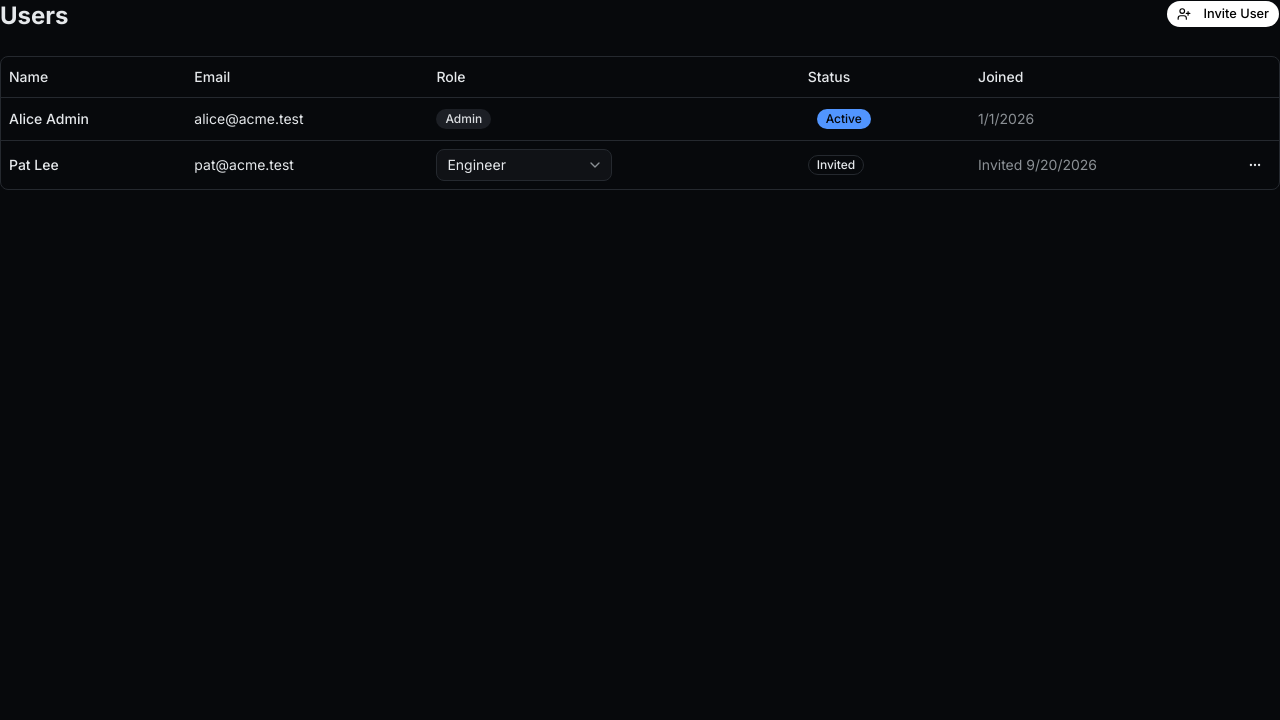
Test: a pending invitee › offers to revoke, not remove, someone who never got in
Step 1. Click the button named "open actions" → (1255, 164), box [1239,148,1271,180]
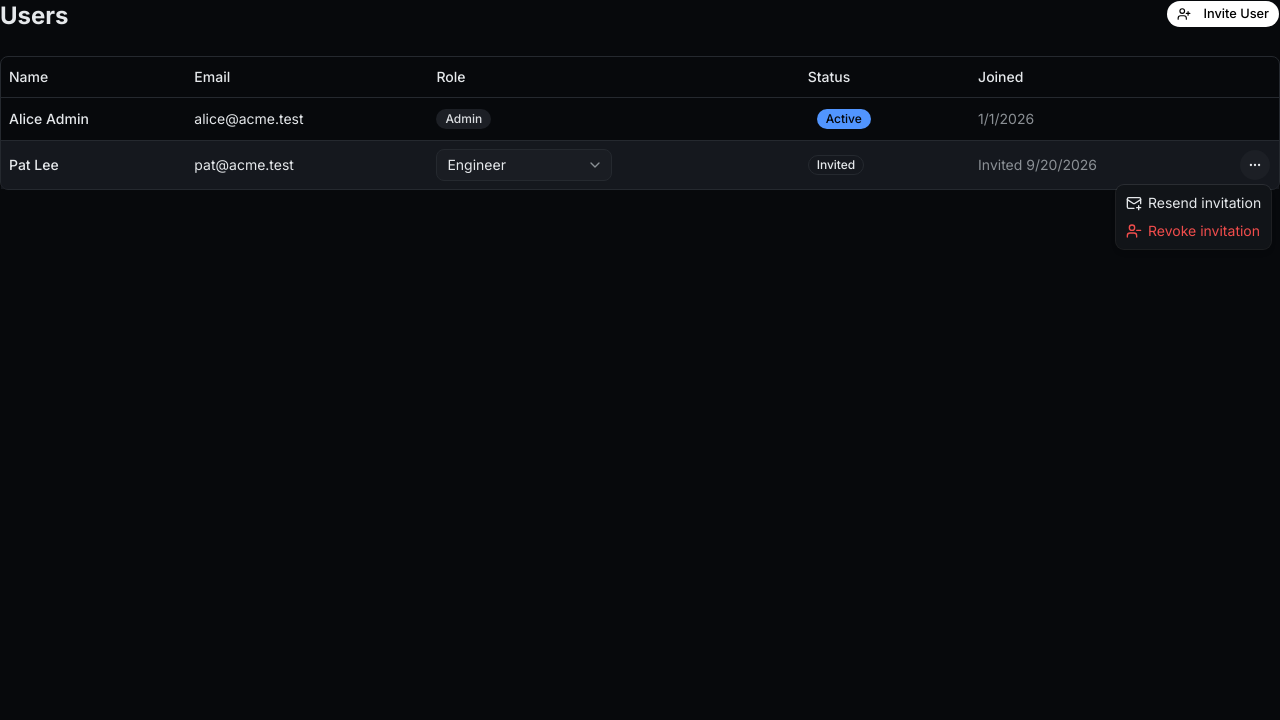
Step 2. Click the menu item "Revoke invitation" → (1194, 231), box [1120,217,1267,245]
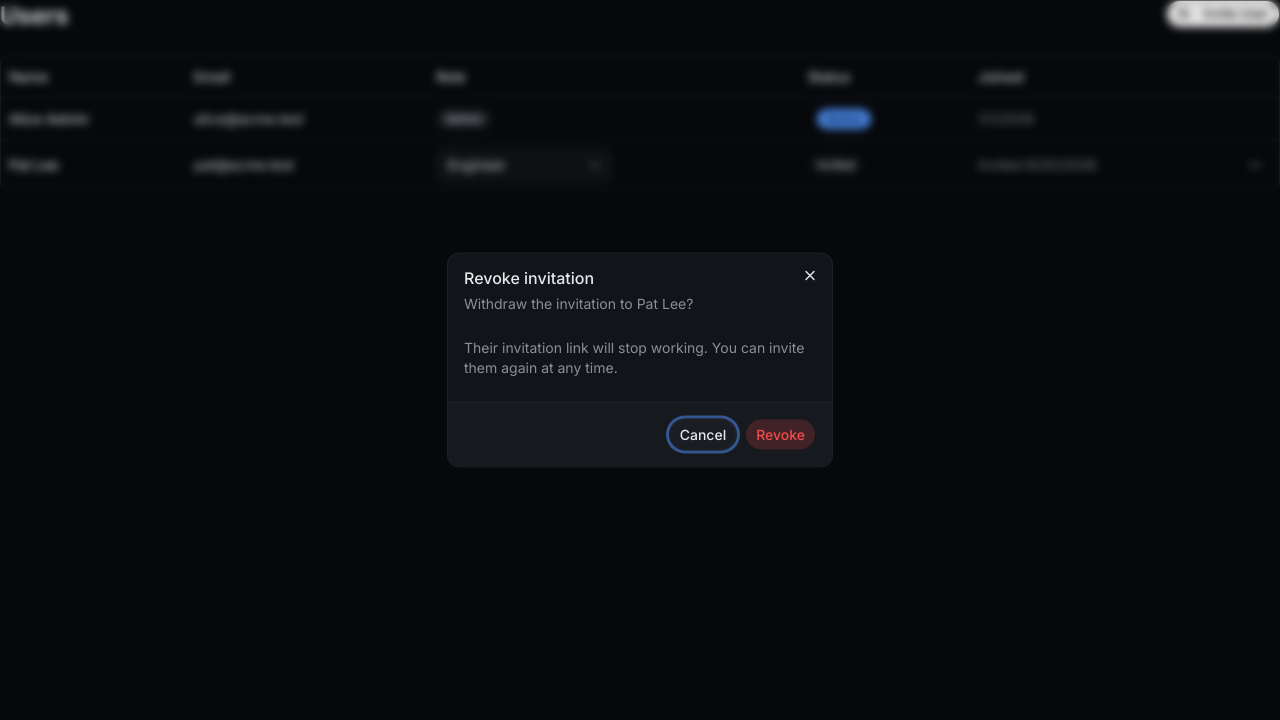
Check: the heading "Revoke invitation" is shown, box [464,268,594,288]
Check: the button "Revoke" is shown, box [745,418,816,450]
